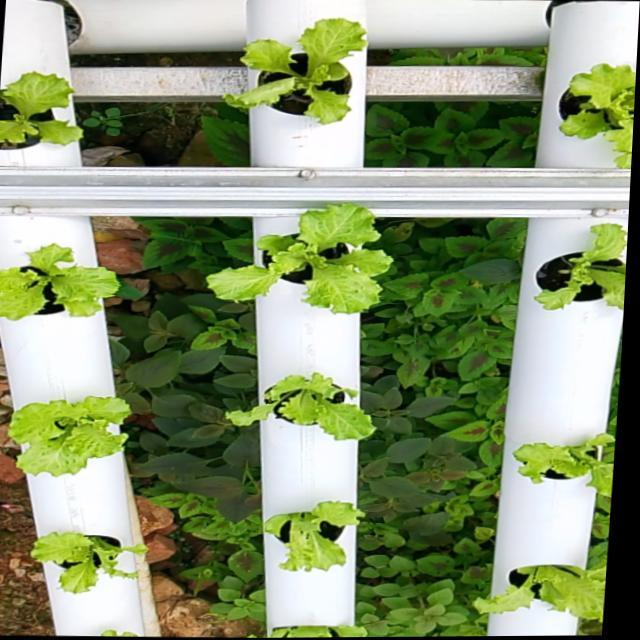Baby: (198, 204, 382, 311), (214, 20, 356, 125), (217, 369, 366, 436), (0, 393, 124, 472), (522, 222, 626, 312), (546, 66, 636, 168), (464, 551, 607, 615), (0, 243, 112, 319), (501, 428, 614, 496), (24, 527, 140, 588), (255, 496, 354, 565), (0, 72, 74, 148)
